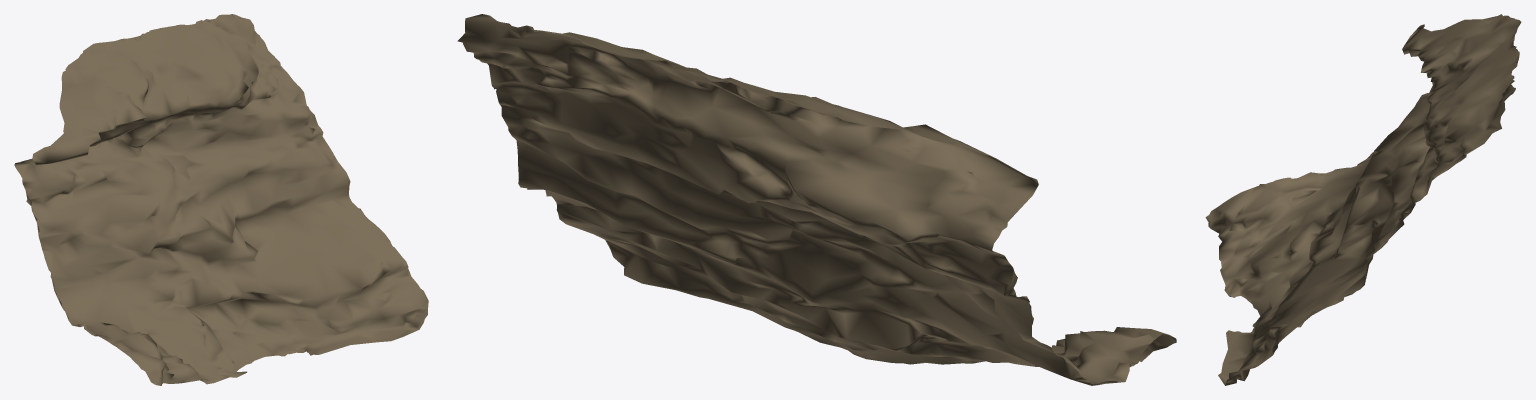
Rendered from OutcropLayered.gltf.
3 views of the same model, side by side, from view 1: azimuth 30°, elevation 25°; view 2: azimuth 150°, elevation 25°; view 3: azimuth 270°, elevation 25° (orthographic). The views are drawn at different scales.
Visible parts, largest first — view 1: lo; view 2: lo; view 3: lo.
Part boxes in pixels (x1,y1,x2,y2): lo: (14,14,428,385); lo: (457,14,1176,385); lo: (1205,14,1521,385).
Bounding box in the file's own units: 5.84 × 4.21 × 4.51.
